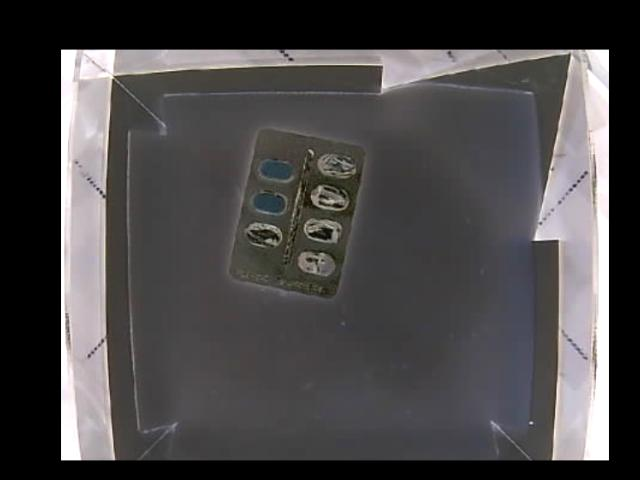Medicine: (233, 128, 367, 298)
